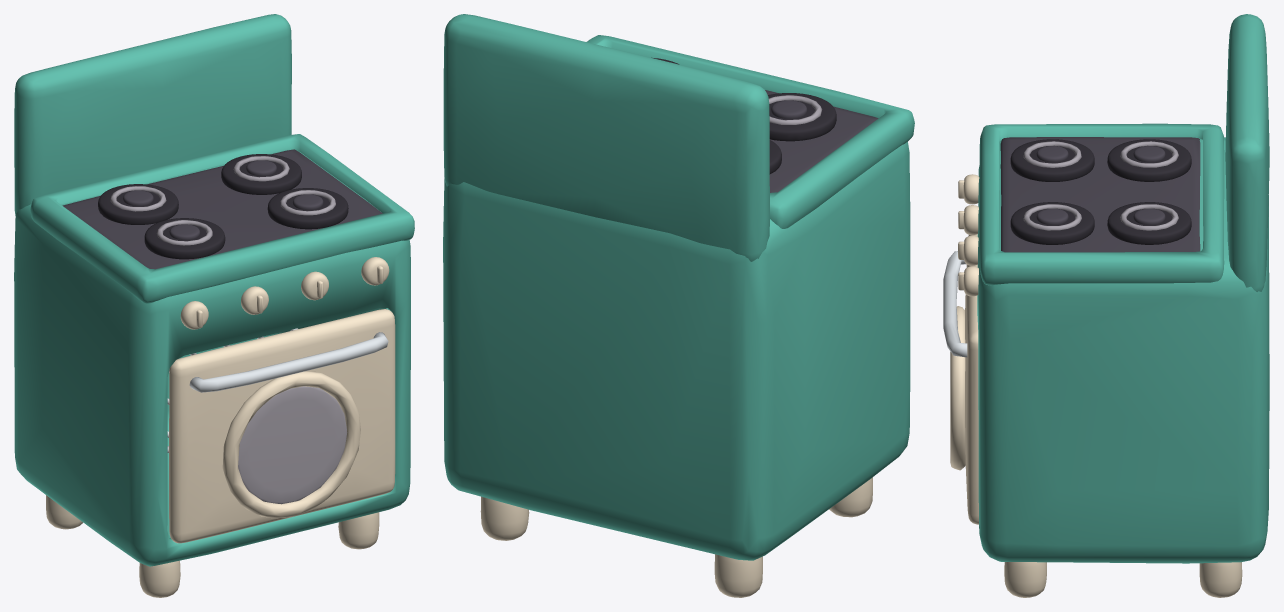
File: stove_c.glb
The picture shows the model from 3 angles, left to right: view 1: azimuth 30°, elevation 25°; view 2: azimuth 150°, elevation 25°; view 3: azimuth 270°, elevation 25°; orthographic projection. The views are drawn at different scales.
Parts seen in each view (by area): view 1: body, door; view 2: body; view 3: body, door.
Part boxes in pixels (x1=…): body: x1=14, y1=14, x2=414, y2=597; door: x1=169, y1=309, x2=395, y2=543; body: x1=443, y1=14, x2=914, y2=597; body: x1=958, y1=14, x2=1269, y2=597; door: x1=943, y1=234, x2=978, y2=524.
Bounding box in the file's own units: 0.7594 × 1.16 × 0.7358.
